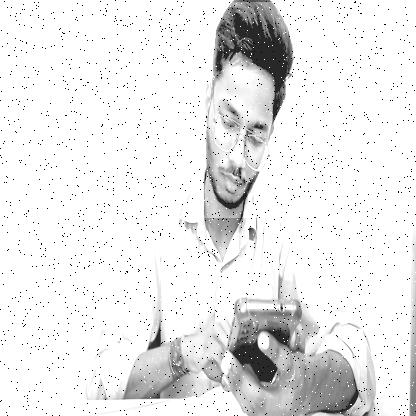Distracted: (196, 2, 288, 218)
